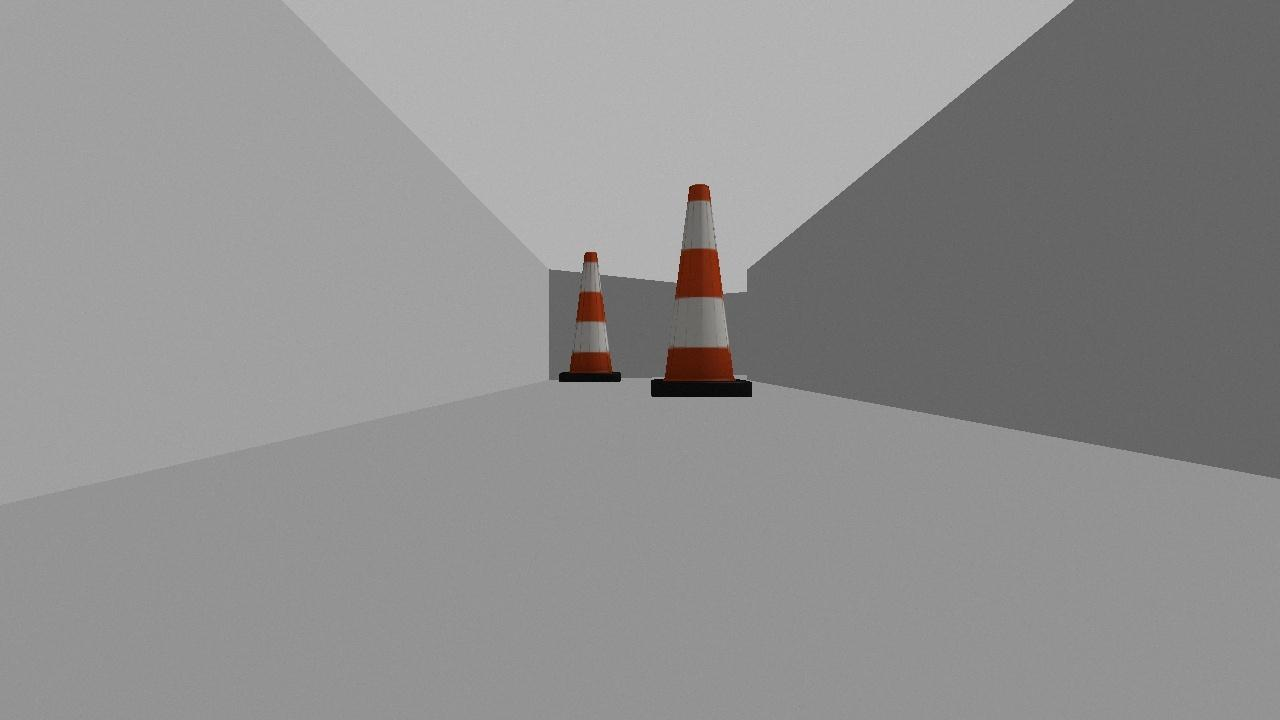cone_barrel: (644, 176, 757, 406), (553, 245, 627, 388)
